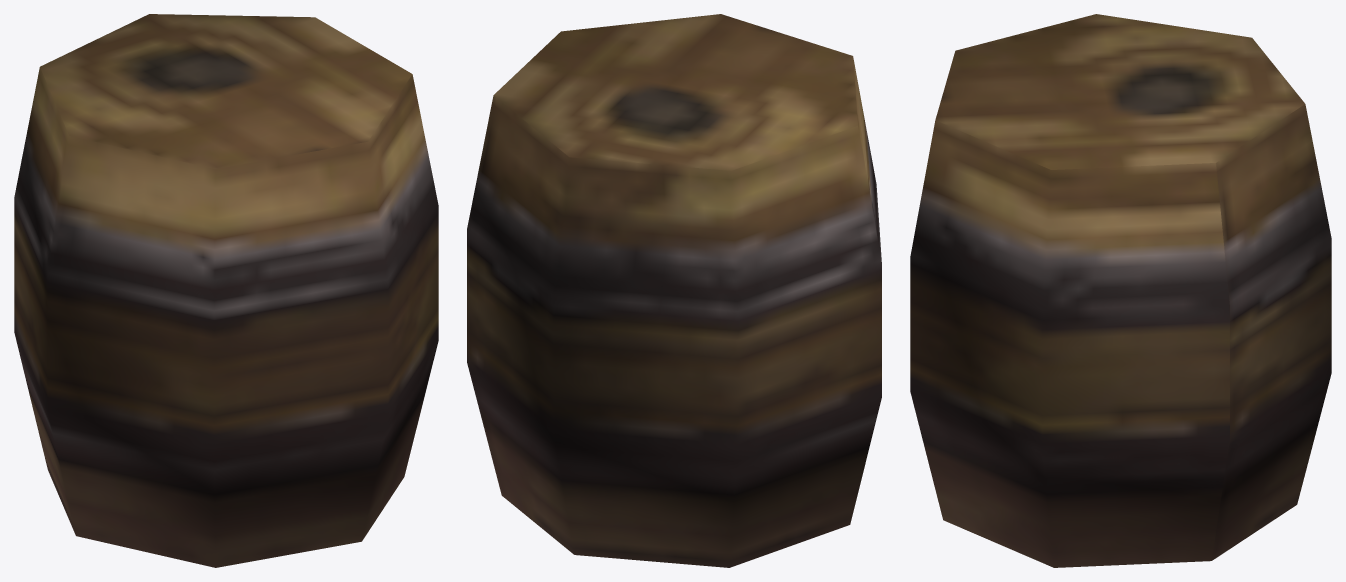
Rendered from Barrel.fbx.
3 renders of one model, left to right at view 1: azimuth 30°, elevation 25°; view 2: azimuth 150°, elevation 25°; view 3: azimuth 270°, elevation 25°, orthographic.
Visible parts, largest first — view 1: Barrel; view 2: Barrel; view 3: Barrel.
Boxes of the visible parts, x1,y1,x2,y2 form: Barrel: (14,14,438,567); Barrel: (467,14,881,567); Barrel: (910,14,1331,567).
Size of the model in its own units: 162 by 170 by 162.
